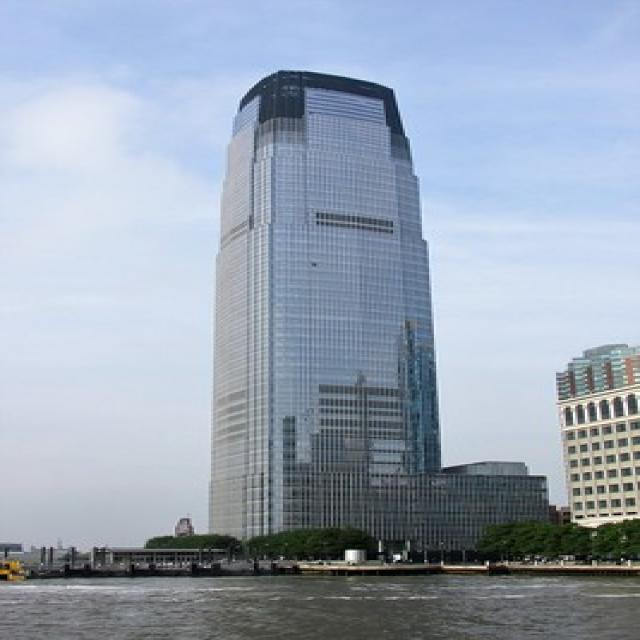Normal_building: (201, 64, 453, 565)
